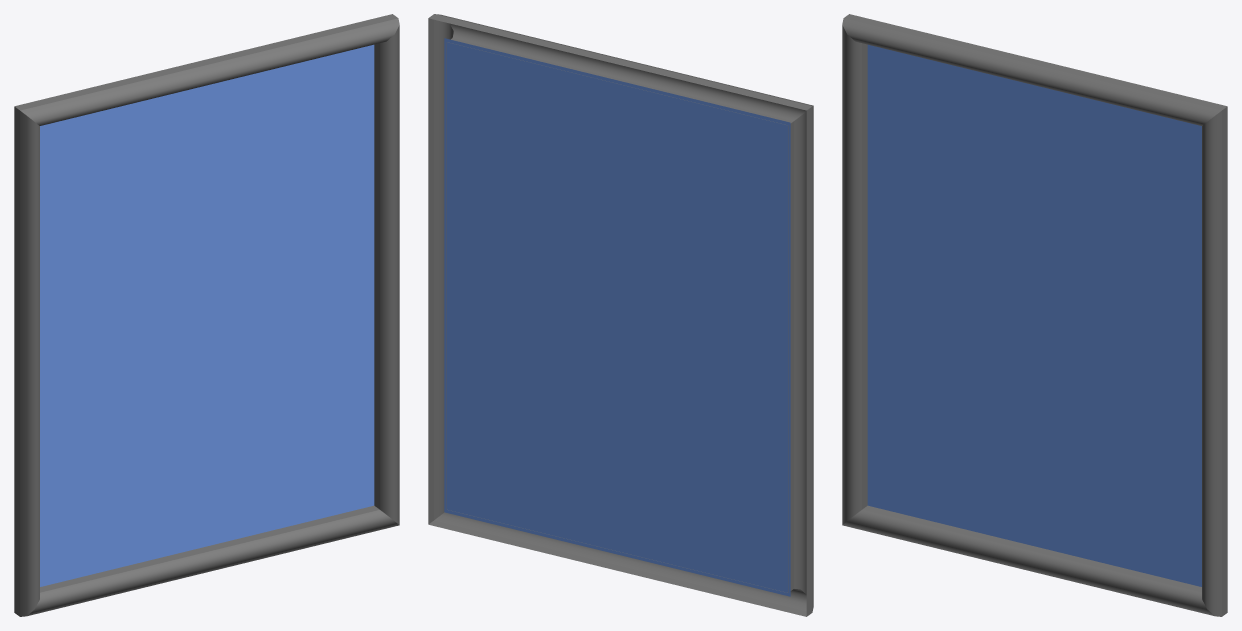
The model's file is painting4.FBX.
The picture shows the model from 3 angles, left to right: view 1: azimuth 30°, elevation 25°; view 2: azimuth 150°, elevation 25°; view 3: azimuth 330°, elevation 25°; orthographic projection.
Parts seen in each view (by area): view 1: painting4; view 2: painting4; view 3: painting4.
Part boxes in pixels (left/top/right/bottom): painting4: left=14, top=14, right=399, bottom=616; painting4: left=428, top=14, right=813, bottom=616; painting4: left=842, top=14, right=1227, bottom=616.
Bounding box in the file's own units: 187 × 240 × 9.79.
